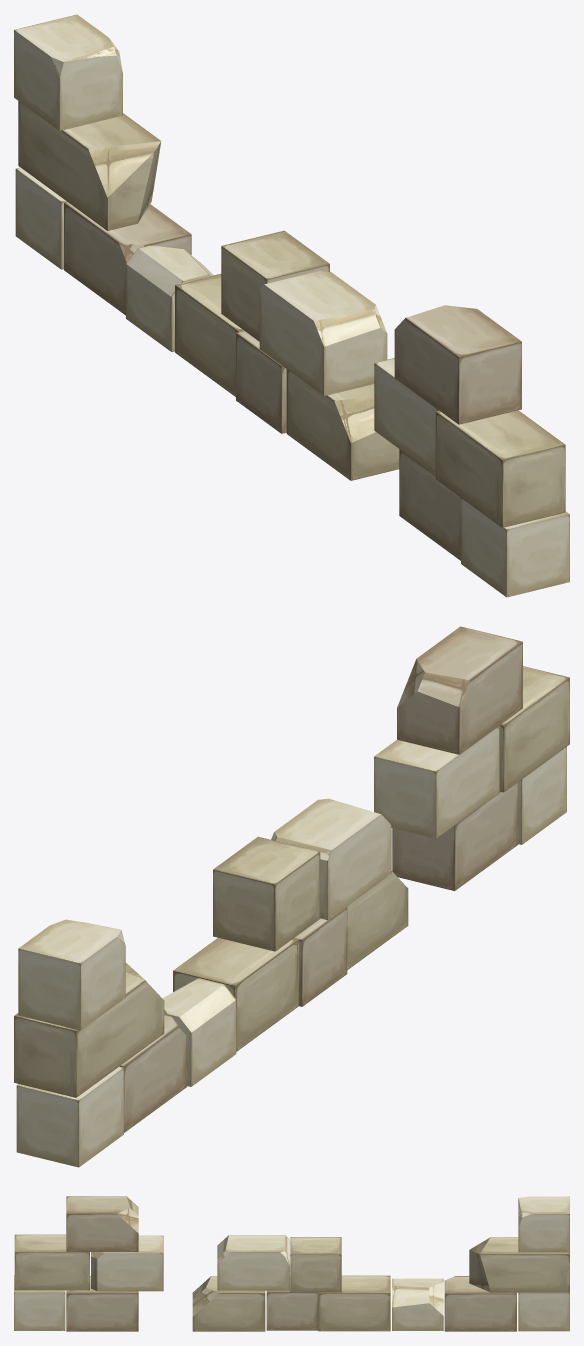
Rendered from mur_state1.FBX.
3 views of the same model, one above another, from view 1: azimuth 30°, elevation 25°; view 2: azimuth 150°, elevation 25°; view 3: azimuth 270°, elevation 25° (orthographic). The views are drawn at different scales.
Parts seen in each view (by area): view 1: Box107, Box104, Box124, Box119, Box121, Box106, Box123, Box118, Box114, Box112, Box111, Box102 (+3 smaller); view 2: Box104, Box119, Box114, Box121, Box102, Box107, Box117, Box112, Box101, Box124, Box111, Box118 (+3 smaller); view 3: Box119, Box104, Box107, Box124, Box112, Box118, Box102, Box106, Box101, Box121, Box114, Box111 (+3 smaller).
Part boxes in pixels (<box>): Box107: <box>259,271,387,395</box>; Box104: <box>394,305,521,424</box>; Box124: <box>435,410,565,527</box>; Box119: <box>18,101,161,230</box>; Box121: <box>14,14,122,130</box>; Box106: <box>286,369,399,480</box>; Box123: <box>461,498,569,597</box>; Box118: <box>64,201,191,315</box>; Box114: <box>221,230,329,341</box>; Box112: <box>175,273,243,396</box>; Box111: <box>126,245,213,351</box>; Box102: <box>374,358,438,475</box>; Box104: <box>397,626,522,754</box>; Box119: <box>14,962,164,1097</box>; Box114: <box>213,836,320,951</box>; Box121: <box>18,919,125,1030</box>; Box102: <box>374,726,499,838</box>; Box107: <box>271,798,391,920</box>; Box117: <box>16,1066,123,1167</box>; Box112: <box>173,937,298,1051</box>; Box101: <box>392,782,518,890</box>; Box124: <box>499,666,569,792</box>; Box111: <box>162,978,236,1086</box>; Box118: <box>119,1014,187,1132</box>; Box119: <box>469,1237,569,1292</box>; Box104: <box>66,1196,138,1251</box>; Box107: <box>217,1235,289,1290</box>; Box124: <box>14,1234,89,1290</box>; Box112: <box>318,1275,390,1331</box>; Box118: <box>444,1276,516,1331</box>; Box102: <box>91,1235,163,1291</box>; Box106: <box>192,1276,265,1331</box>; Box101: <box>66,1276,138,1331</box>; Box121: <box>518,1196,569,1252</box>; Box114: <box>290,1237,341,1292</box>; Box111: <box>392,1278,443,1330</box>.
Bounding box in the file's own units: 0.1733 × 0.4771 × 2.06.
Materials: 5 (5 with a texture image).
